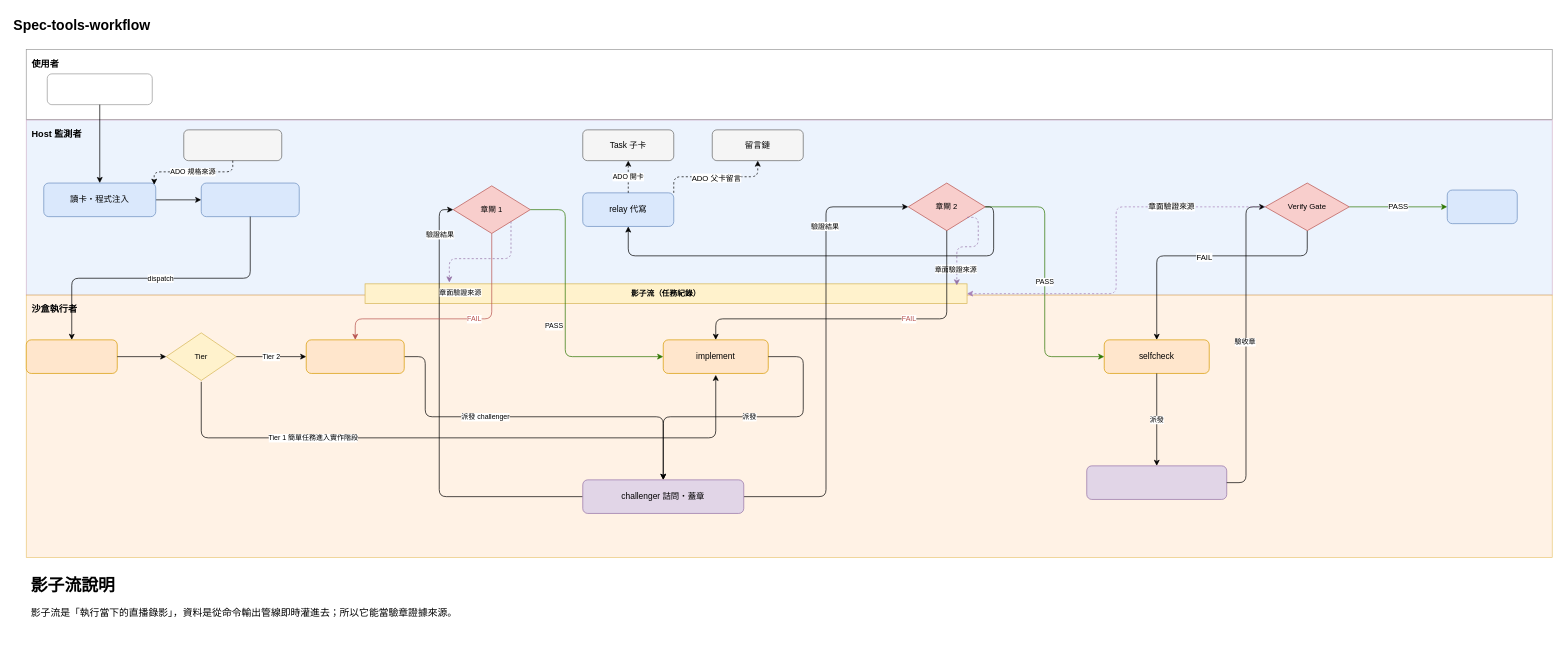
This 1565x669 diagram has some shape labels left out. The shapes that lost their labels are listed below. From the top down, each one's centre as x and y in pixels, then its label:
point (99, 89): 給卡號起跑
point (232, 145): description
point (250, 199): dispatch.py 派工
point (1482, 206): commit
point (71, 356): plan
point (355, 356): task 拆解
point (1156, 482): verifier 驗收・蓋章
